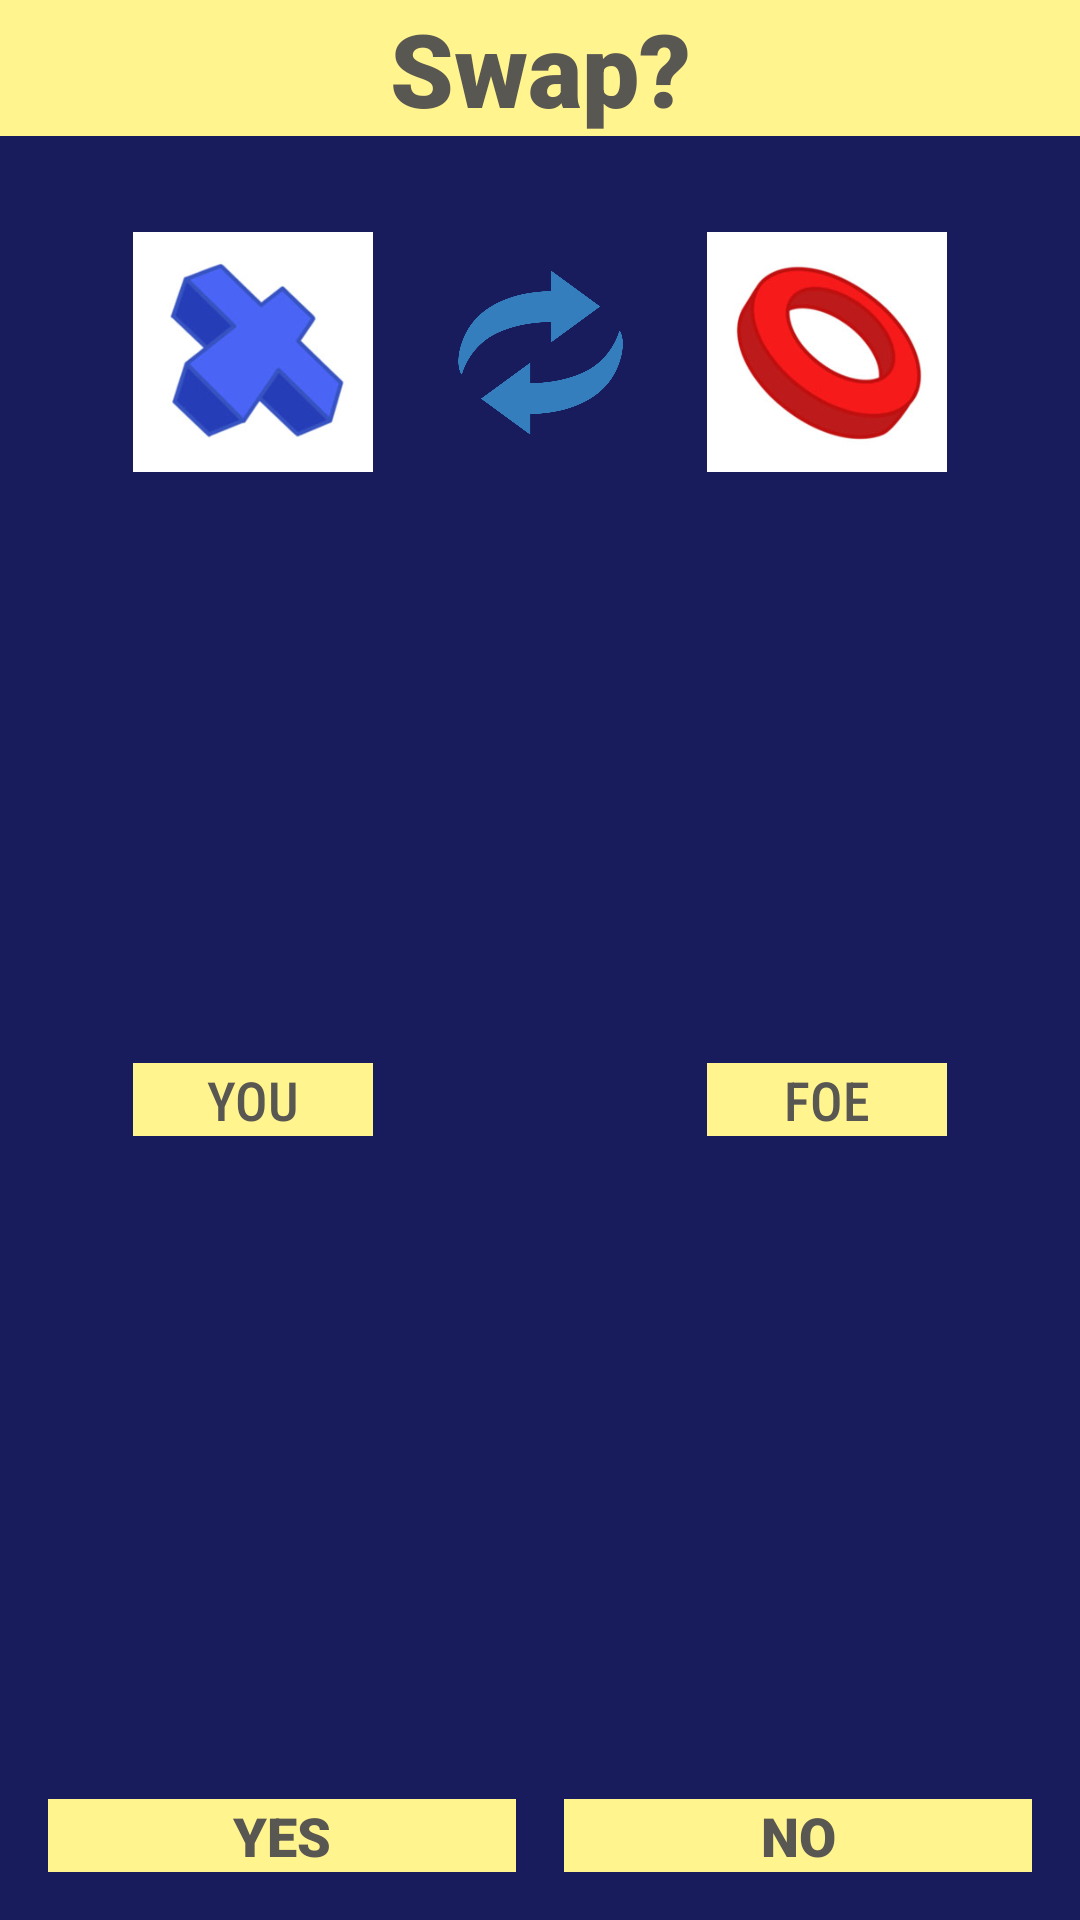

Icons on this 1080w x 1920h Android screen, each with the point to tap as (x=x, y=y):
circle: (x=827, y=352)
cross: (x=253, y=352)
